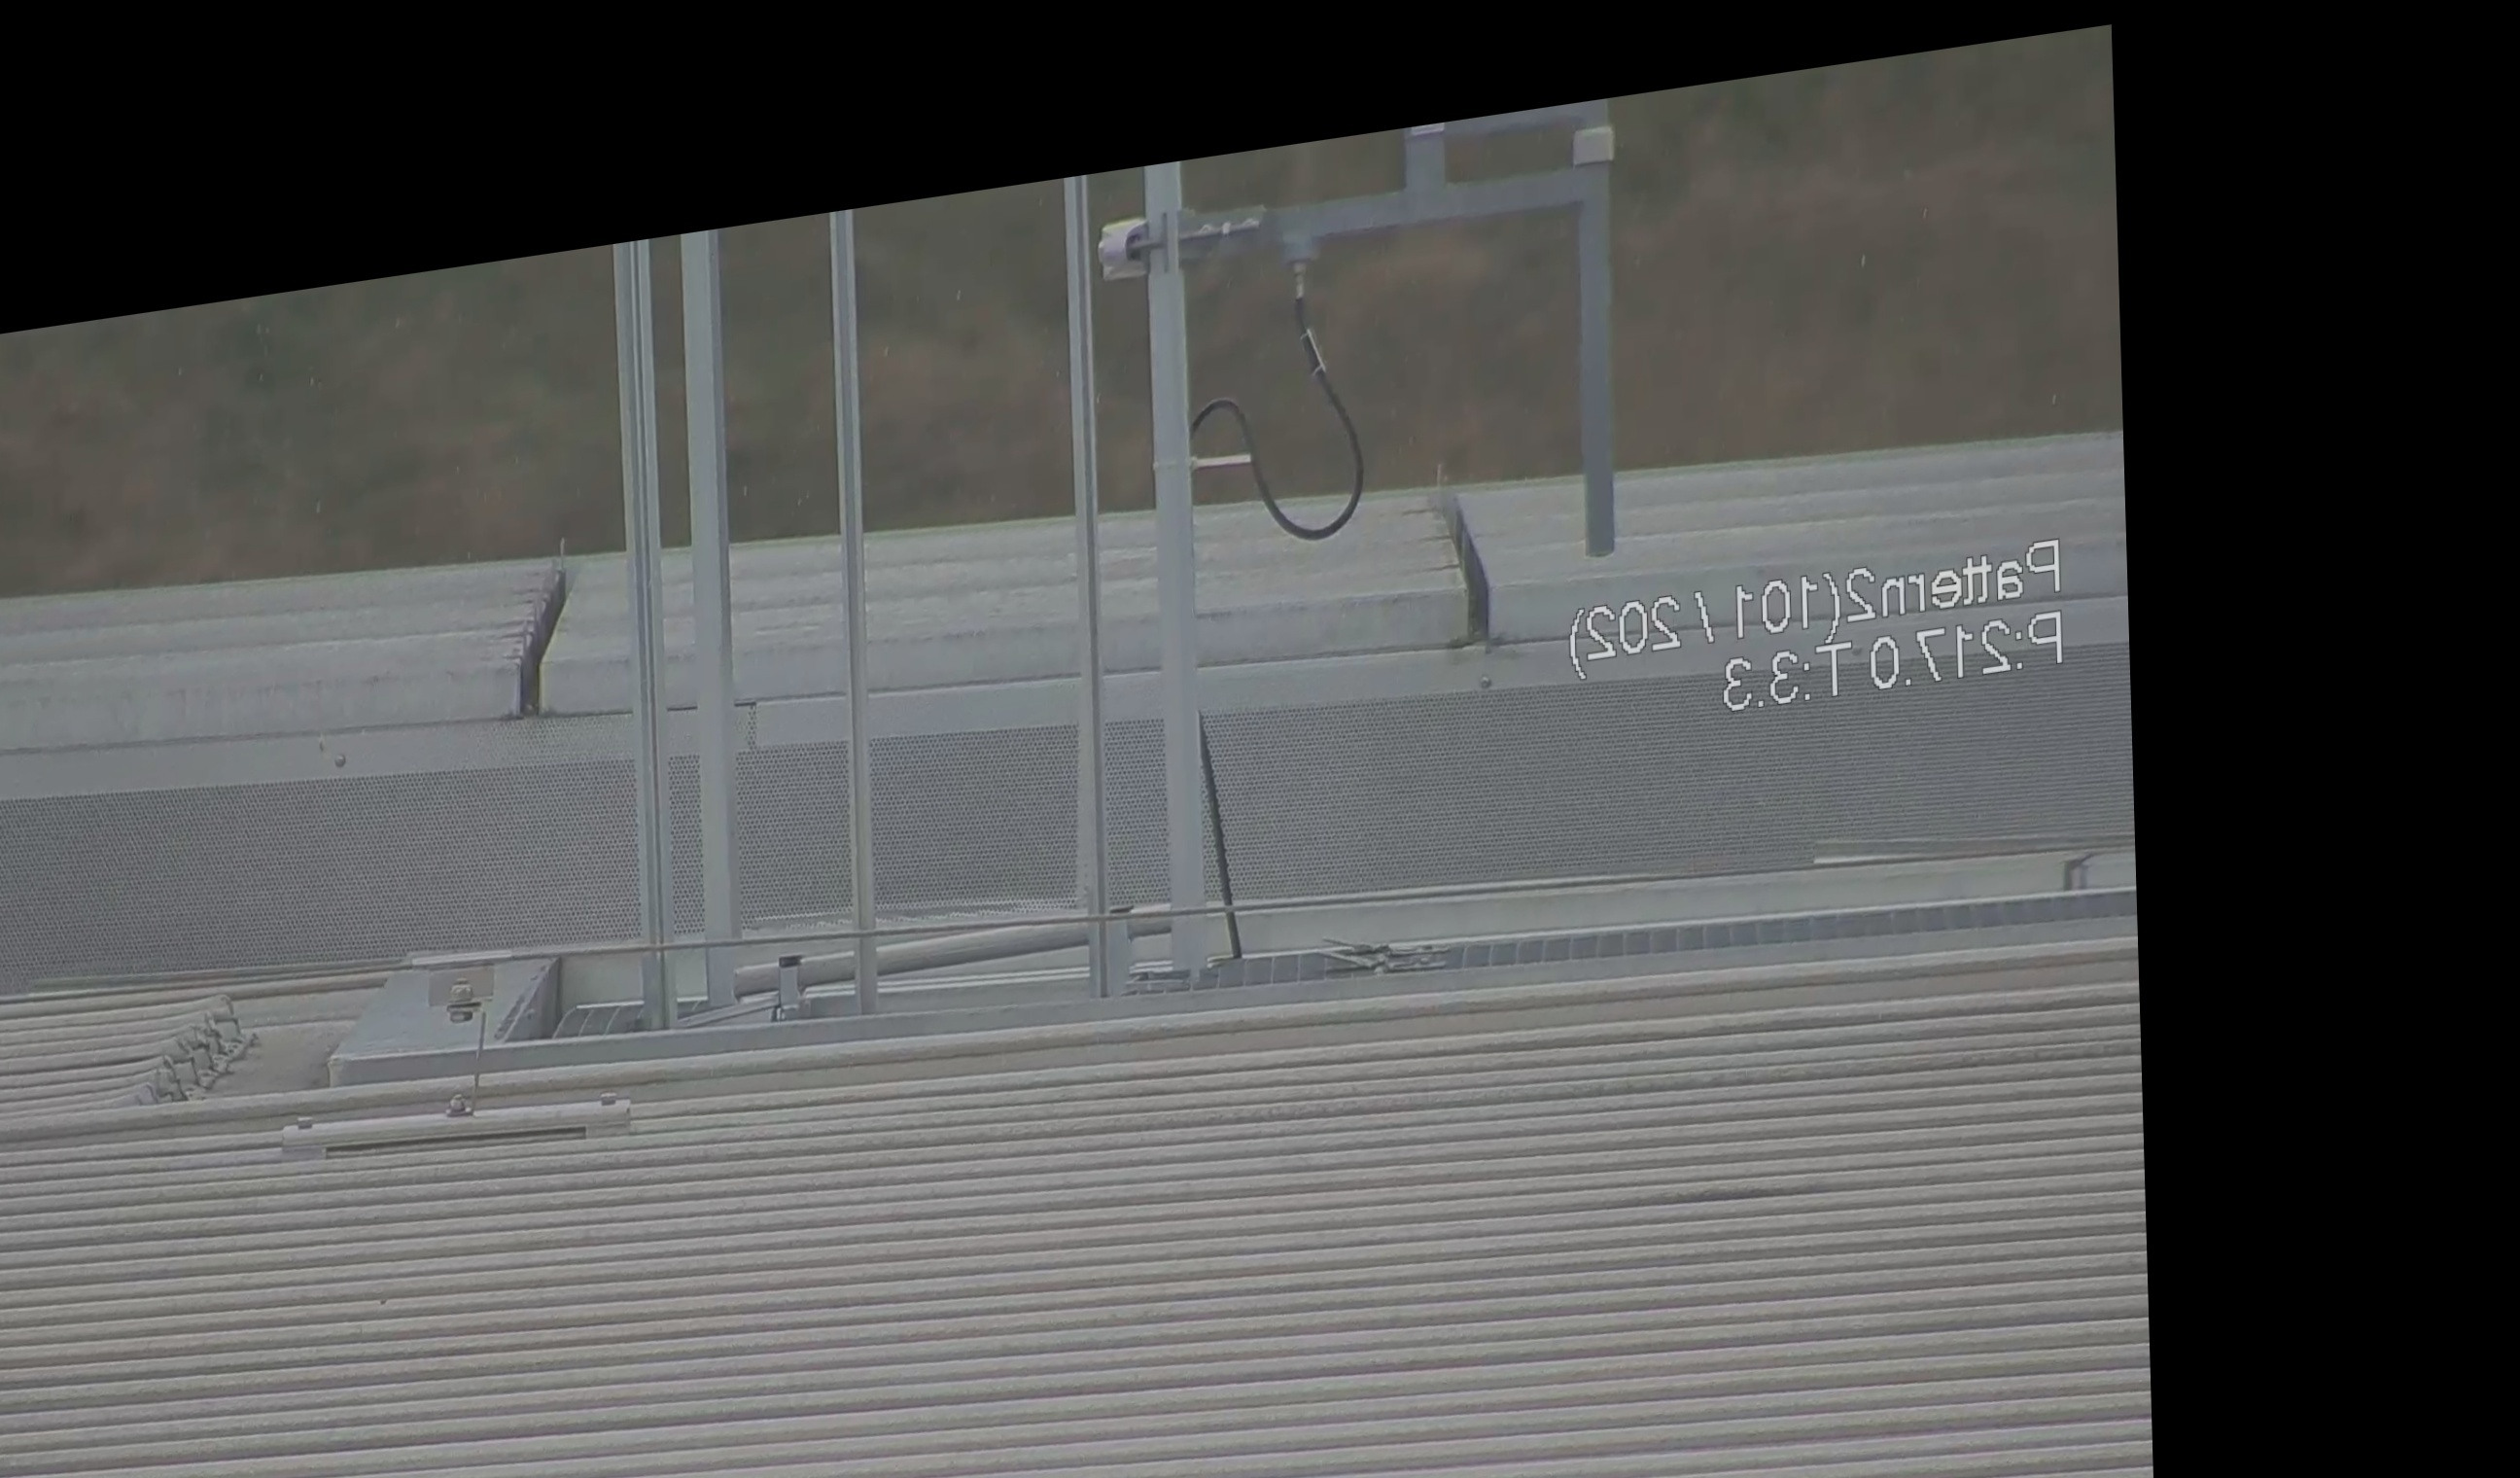Other: (482, 519, 600, 734)
